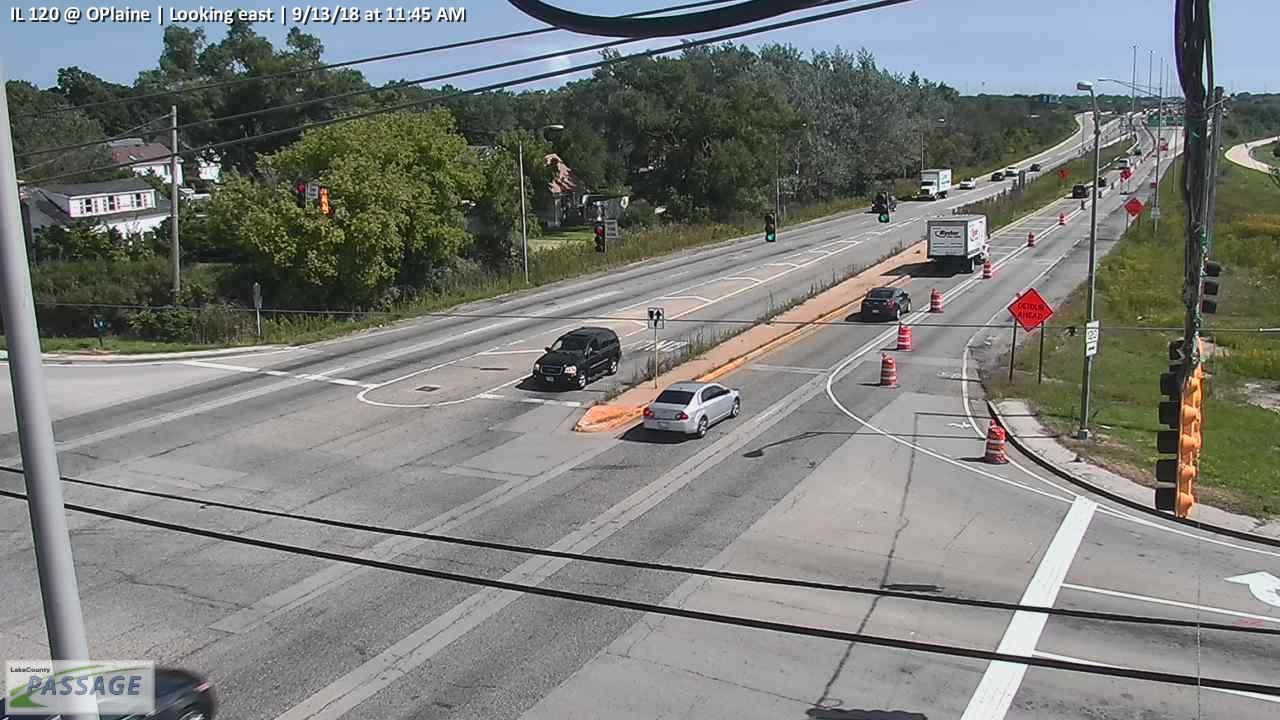SUV: (532, 325, 622, 391), (1073, 184, 1090, 197)
Sedan: (642, 381, 741, 439), (861, 287, 912, 321), (959, 175, 976, 189)
Truck: (926, 213, 990, 274), (917, 168, 952, 200)
